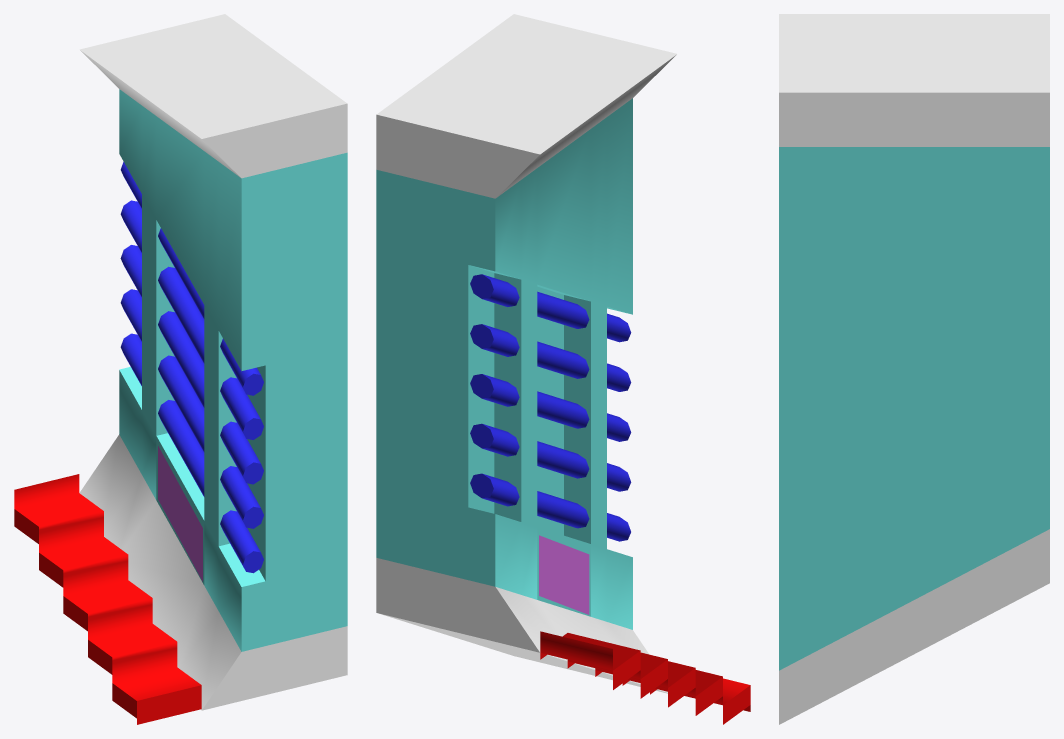
The model's file is Wall-BaseAngledMid.fbx.
3 renders of one model, left to right at view 1: azimuth 30°, elevation 25°; view 2: azimuth 150°, elevation 25°; view 3: azimuth 270°, elevation 25°, orthographic. The views are drawn at different scales.
Parts seen in each view (by area): view 1: BaseAngledMid; view 2: BaseAngledMid; view 3: BaseAngledMid.
Part boxes in pixels (x1,y1,x2,y2): BaseAngledMid: (14,14,347,724); BaseAngledMid: (376,14,750,724); BaseAngledMid: (779,14,1049,724).
Bounding box in the file's own units: 78.28 × 203 × 78.74.
